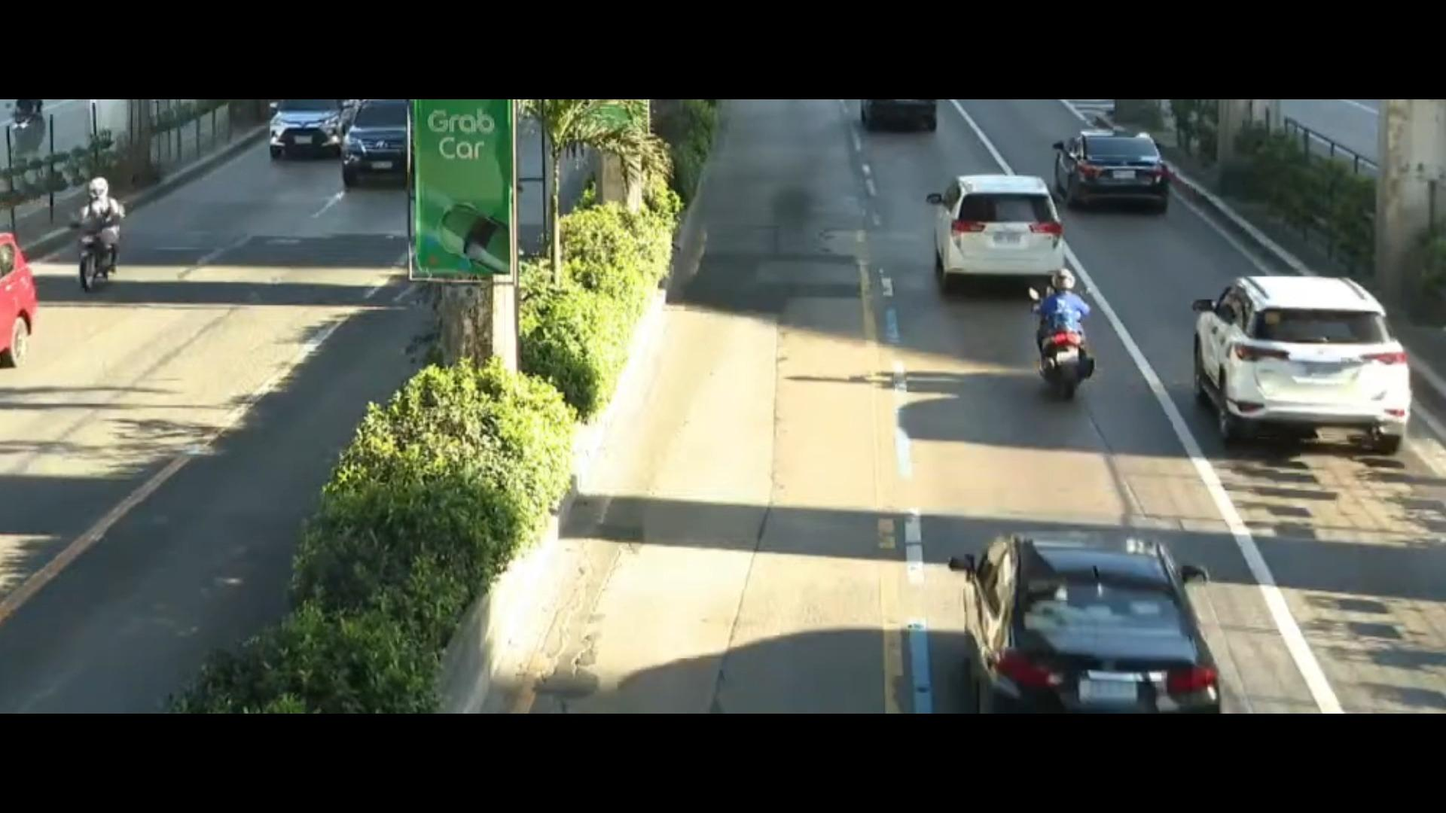Motorcycle: (1012, 254, 1124, 405)
Sedan: (921, 166, 1081, 292), (1045, 119, 1179, 203)
